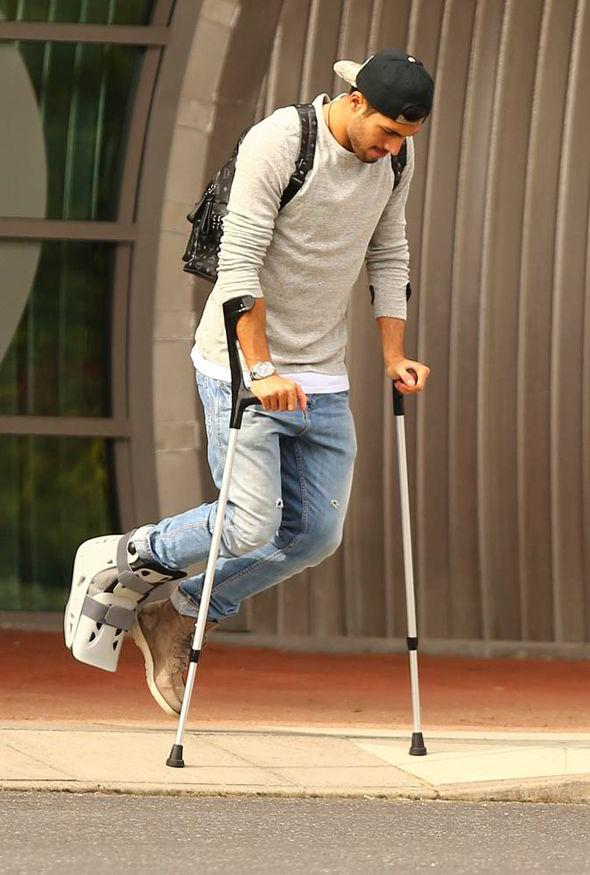crutches: (65, 51, 434, 769)
